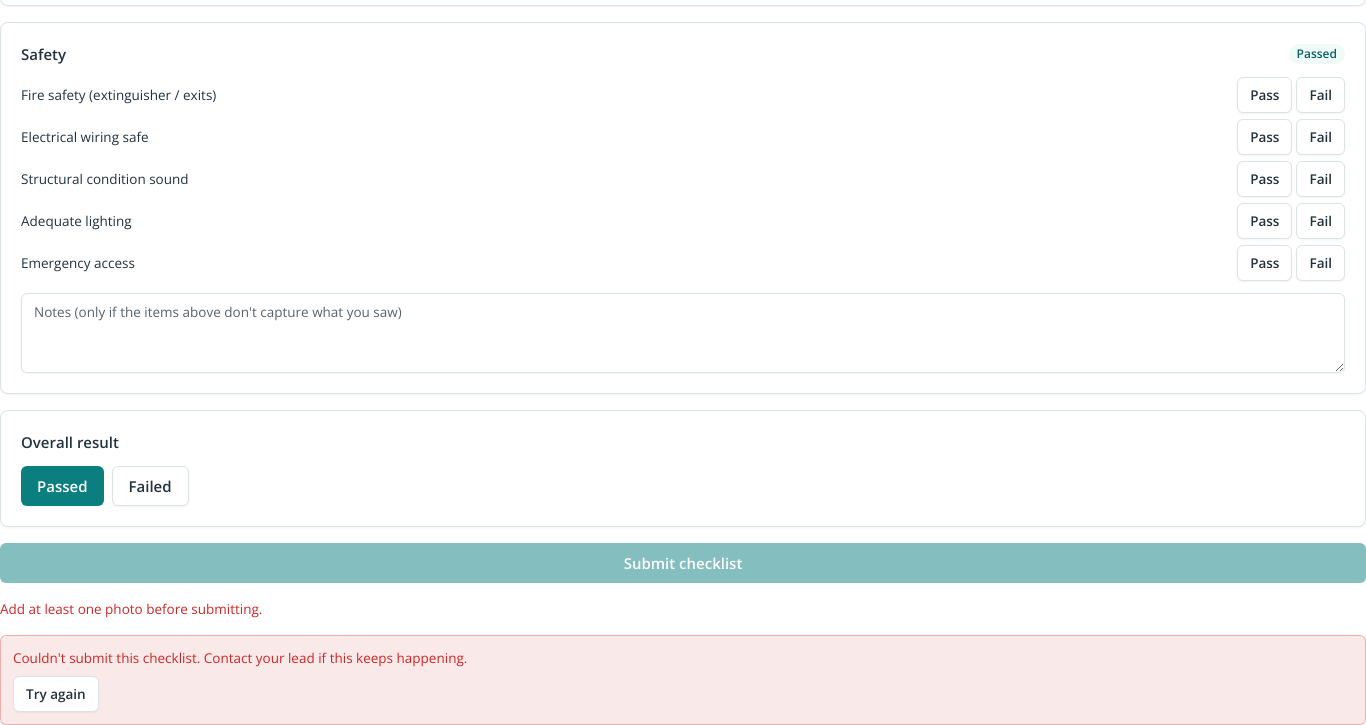
Scenario: InspectionForm › retries a failed draft when 'Try again' is clicked
(page scrolled)
Click the button "Try again": (56, 694) [13,676,99,712]
(page scrolled)
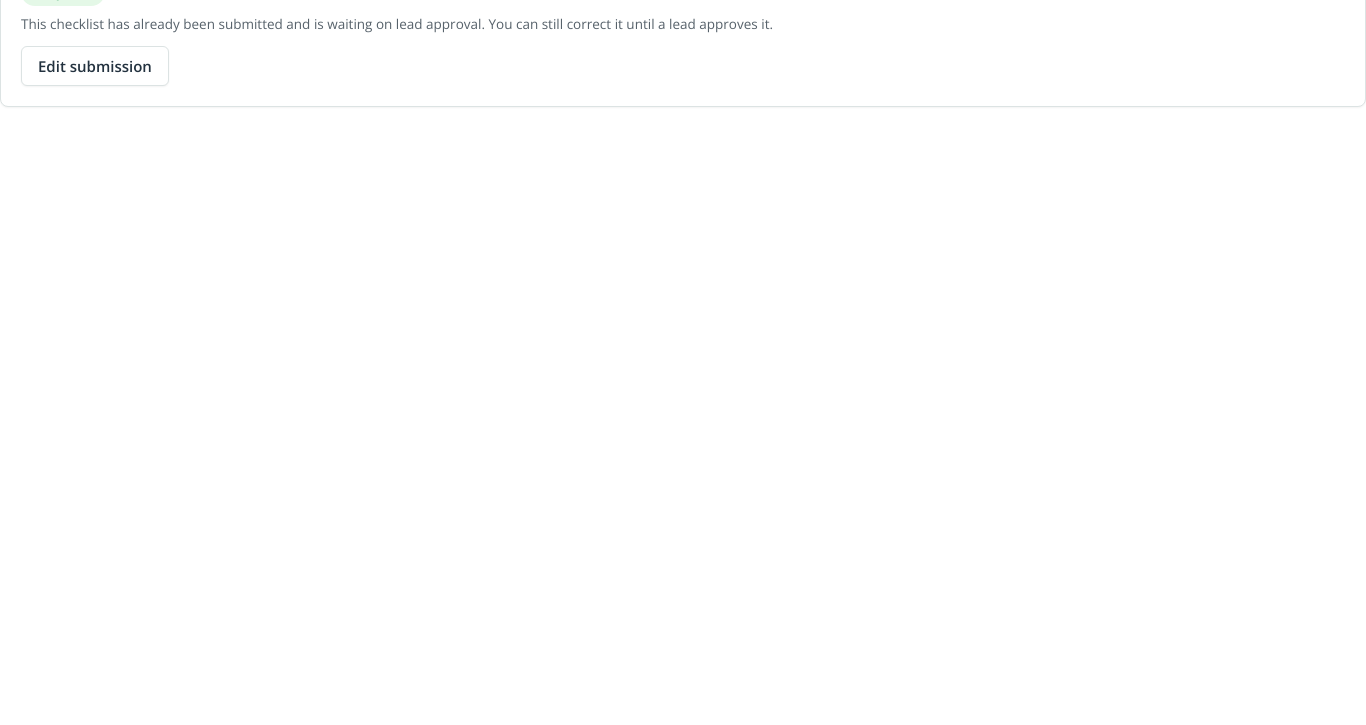
Result: the text "Couldn't submit this checklist" is gone
